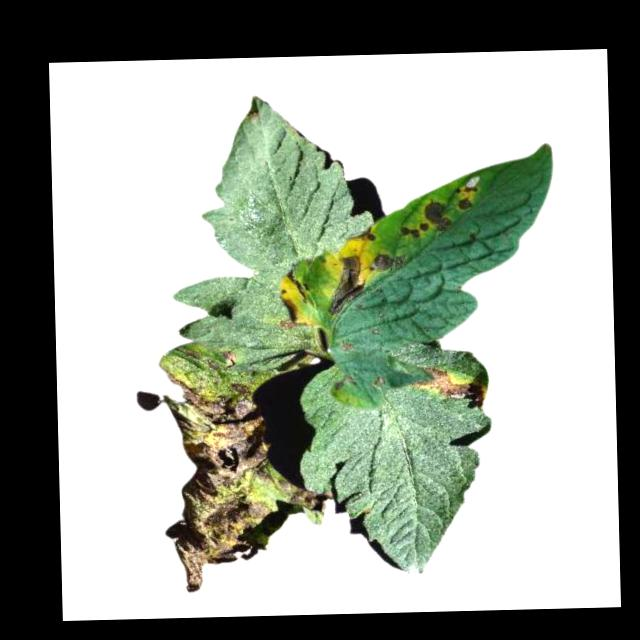Early_blight: (159, 339, 336, 594), (402, 363, 487, 413), (325, 251, 366, 316), (398, 202, 445, 241), (275, 290, 306, 332), (372, 252, 405, 274), (456, 184, 480, 214), (348, 225, 377, 243)
